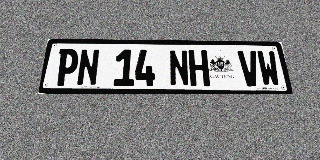1: (113, 49, 135, 86)
4: (135, 49, 155, 86)
H: (188, 50, 210, 86)
N: (76, 49, 100, 86), (169, 50, 190, 86)
P: (54, 49, 80, 86)
V: (237, 51, 262, 86)
W: (256, 51, 281, 86)
